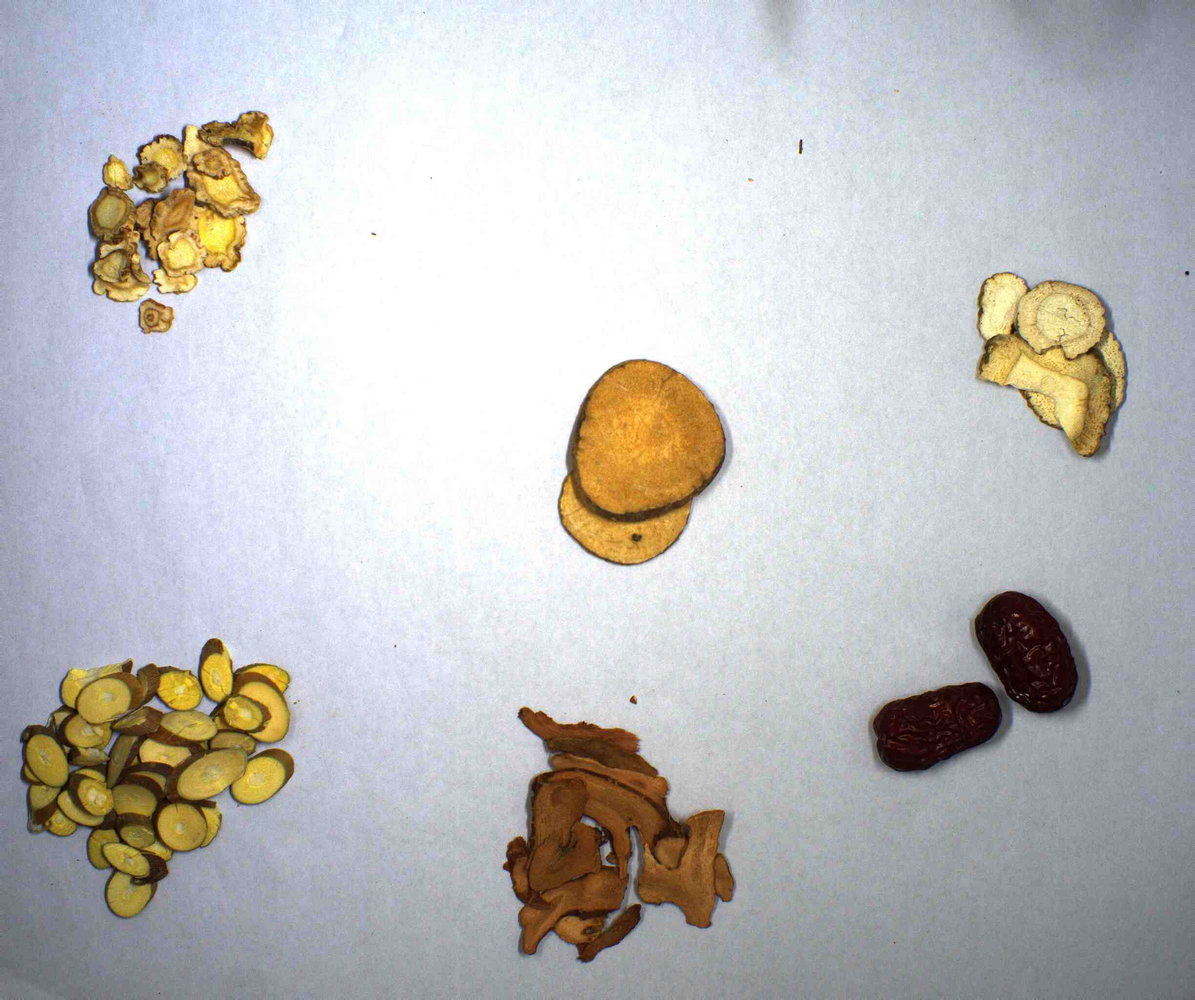baizhi: (962, 264, 1161, 468)
dazao: (865, 595, 1139, 783)
gaoliangjiang: (480, 690, 774, 960)
jiegeng: (82, 122, 306, 333)
sangzhi: (18, 629, 318, 921)
zexie: (547, 344, 759, 575)
